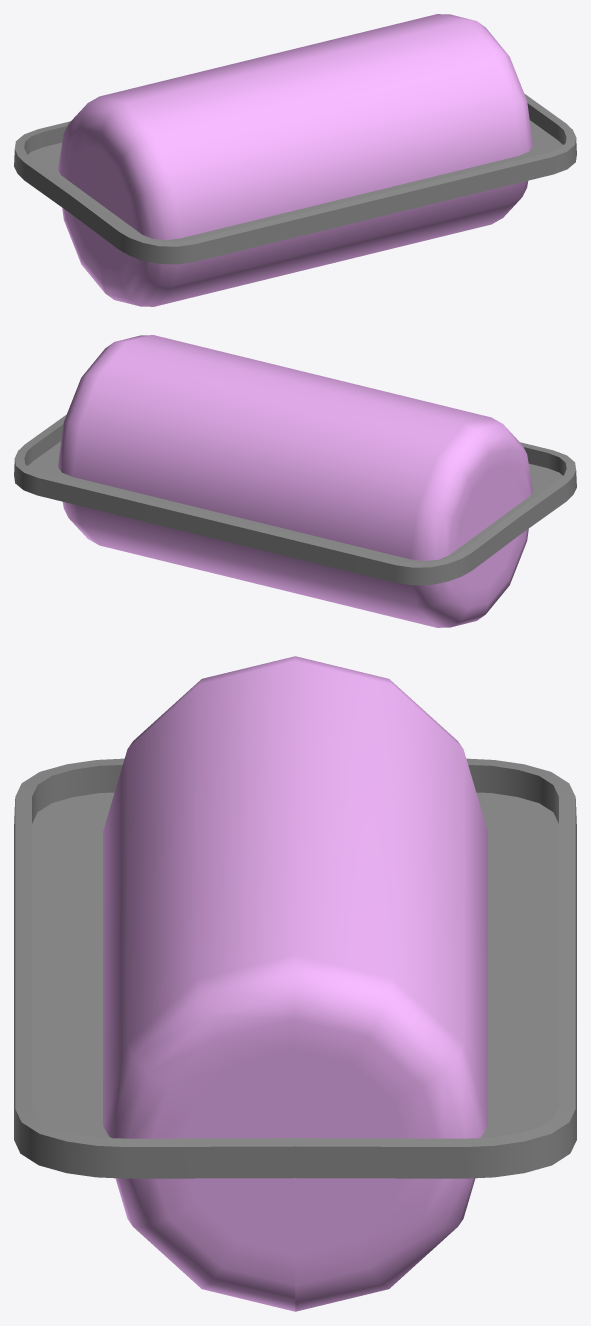
File: Obstacle_11.fbx
3 renders of one model, top to bottom at view 1: azimuth 30°, elevation 25°; view 2: azimuth 150°, elevation 25°; view 3: azimuth 270°, elevation 25°, orthographic. The views are drawn at different scales.
Parts seen in each view (by area): view 1: Quay, Truc; view 2: Quay, Truc; view 3: Quay, Truc.
Part boxes in pixels (<box>): Quay: <box>58,14,532,306</box>; Truc: <box>14,93,576,264</box>; Quay: <box>58,335,532,627</box>; Truc: <box>14,414,576,585</box>; Quay: <box>103,656,487,1311</box>; Truc: <box>14,758,576,1178</box>.
Size of the model in its own units: 2.13 by 0.8945 by 1.3.
